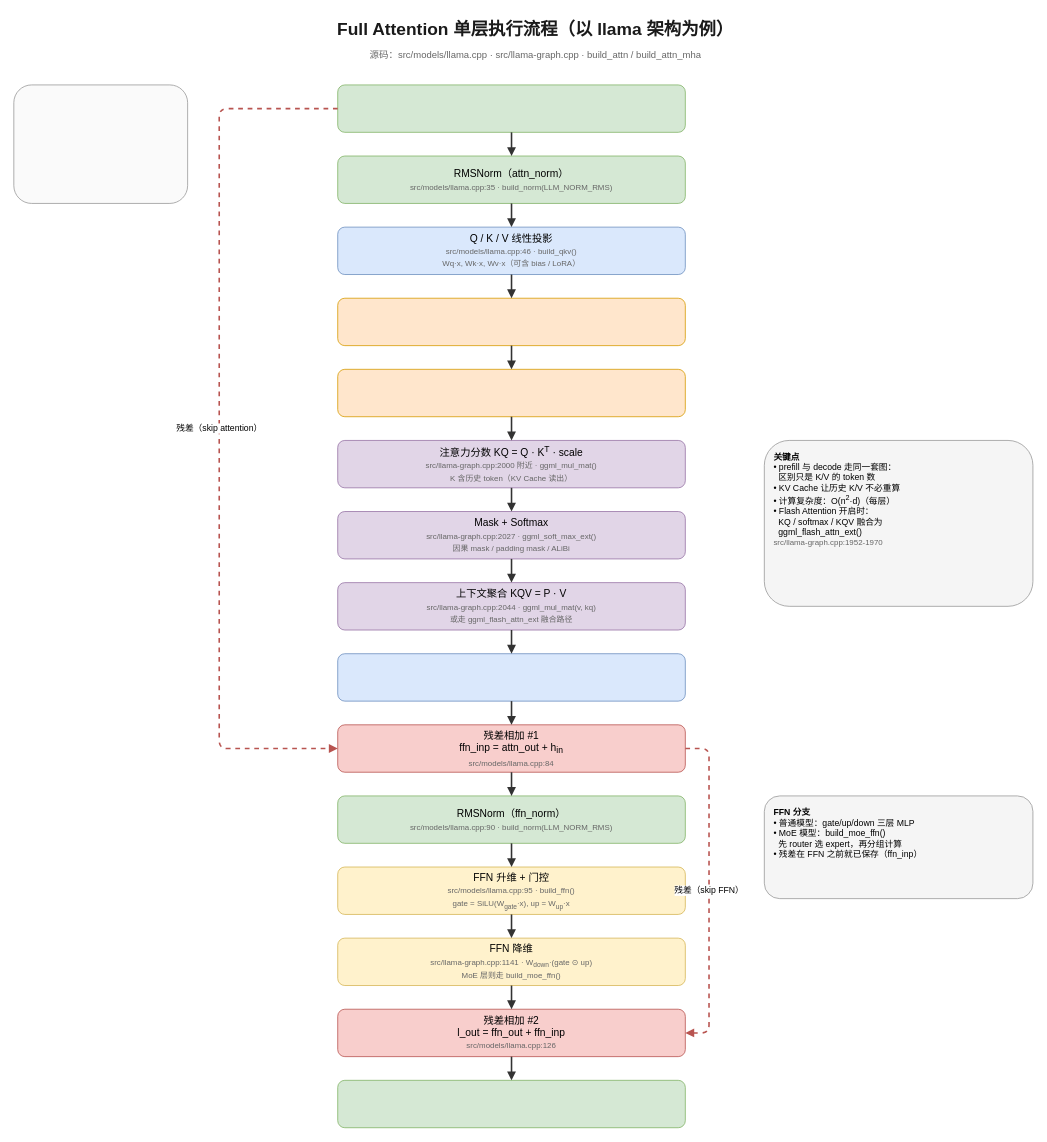
This 1047x1142 diagram has some shape labels left out. Each missing label, with the box of its shape:
RoPE 位置编码（Q、K） src/models/llama.cpp:49-63 · ggml_rope_ext(): (337, 297, 685, 346)
写入 KV Cache src/llama-graph.cpp:2174-2212 · cpy_k / cpy_v K、V 追加到当前序列的 KV Cache: (337, 369, 685, 417)
图例 ■ 归一化 / 输入输出 ■ 线性投影 ■ RoPE / KV Cache ■ Attention 计算 ■ 残差相加 ■ FFN: (13, 84, 188, 203)
输入隐藏状态 h in embedding 或上一层输出: (337, 84, 685, 132)
输出到下一层（或 final norm + LM head） src/models/llama.cpp:129-140: (337, 1080, 685, 1128)
输出投影 W o src/llama-graph.cpp:2222-2240 · build_lora_mm(wo): (337, 653, 685, 701)
